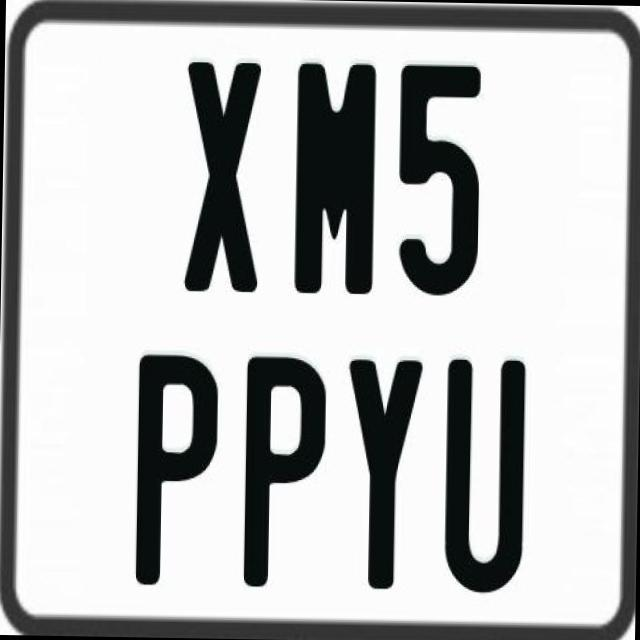5: (394, 59, 484, 291)
M: (292, 58, 374, 300)
P: (242, 351, 332, 582), (132, 352, 218, 585)
U: (441, 354, 526, 590)
X: (180, 60, 264, 295)
Y: (342, 356, 418, 594)
